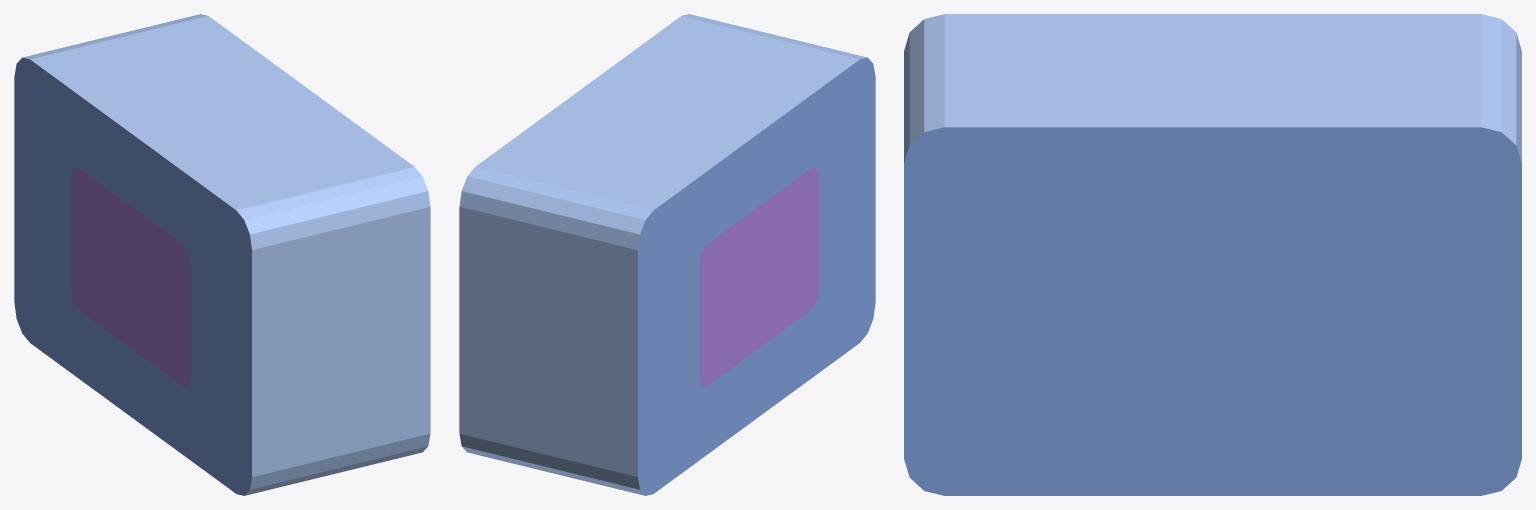
Rendered from Building_044_b.fbx.
The picture shows the model from 3 angles, left to right: view 1: azimuth 30°, elevation 25°; view 2: azimuth 150°, elevation 25°; view 3: azimuth 270°, elevation 25°; orthographic projection. The views are drawn at different scales.
Visible parts, largest first — view 1: Building_044_b; view 2: Building_044_b; view 3: Building_044_b.
Boxes of the visible parts, <box> form: Building_044_b: <box>14,14,430,495</box>; Building_044_b: <box>459,14,875,495</box>; Building_044_b: <box>904,14,1521,495</box>.
Bounding box in the file's own units: 6.91 × 10.36 × 15.73.
